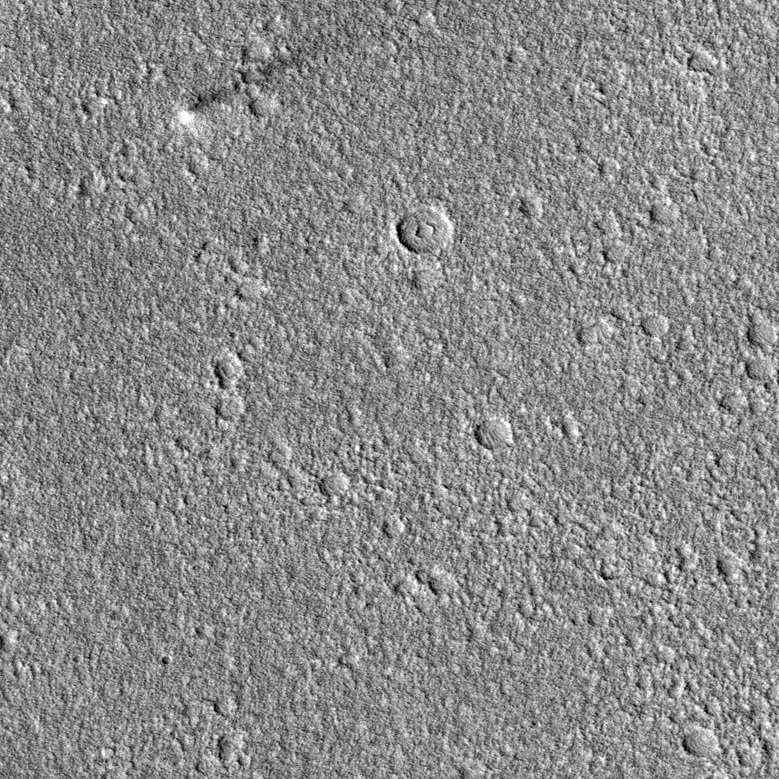dust_devil: (174, 49, 308, 129)
